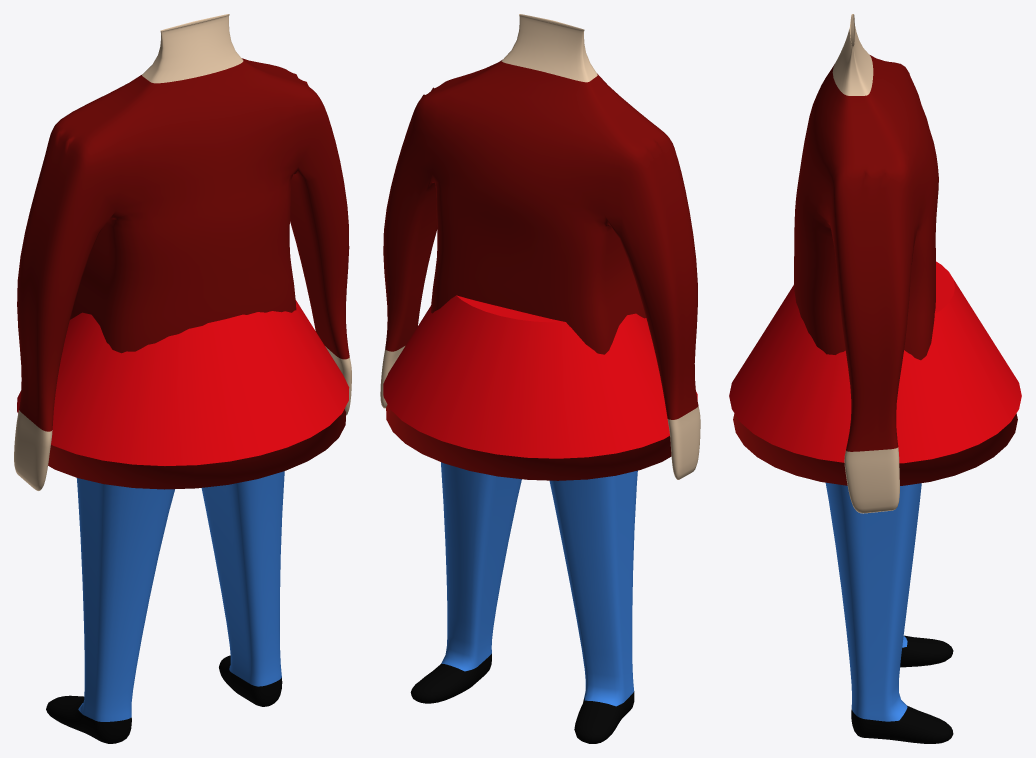
Rendered from Nora_ohne_Kopf(3).fbx.
The picture shows the model from 3 angles, left to right: view 1: azimuth 30°, elevation 25°; view 2: azimuth 150°, elevation 25°; view 3: azimuth 270°, elevation 25°; orthographic projection. The views are drawn at different scales.
Visible parts, largest first — view 1: Cube.001, Circle.010, Circle.005; view 2: Cube.001, Circle.010, Circle.005; view 3: Cube.001, Circle.010, Circle.005.
Part boxes in pixels (bbox=[...]): Cube.001: bbox=[14, 14, 351, 743]; Circle.010: bbox=[17, 300, 349, 465]; Circle.005: bbox=[48, 409, 345, 489]; Cube.001: bbox=[380, 14, 700, 743]; Circle.010: bbox=[383, 295, 697, 458]; Circle.005: bbox=[386, 405, 671, 480]; Cube.001: bbox=[794, 14, 953, 743]; Circle.010: bbox=[729, 261, 1021, 463]; Circle.005: bbox=[733, 413, 1017, 485].
Bounding box in the file's own units: 48.59 × 104 × 40.98.
